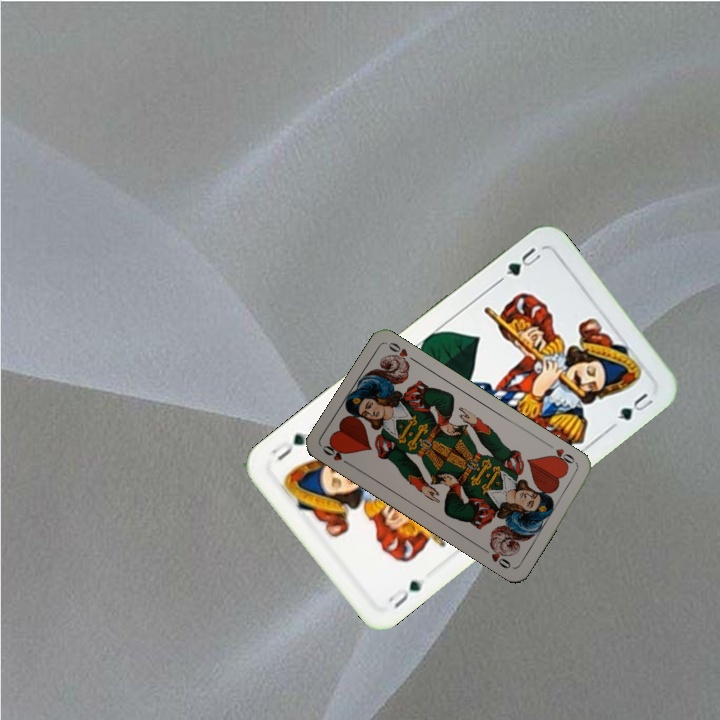GU: (501, 243, 544, 279), (384, 576, 426, 611)
HO: (318, 439, 355, 469), (544, 440, 580, 470)
